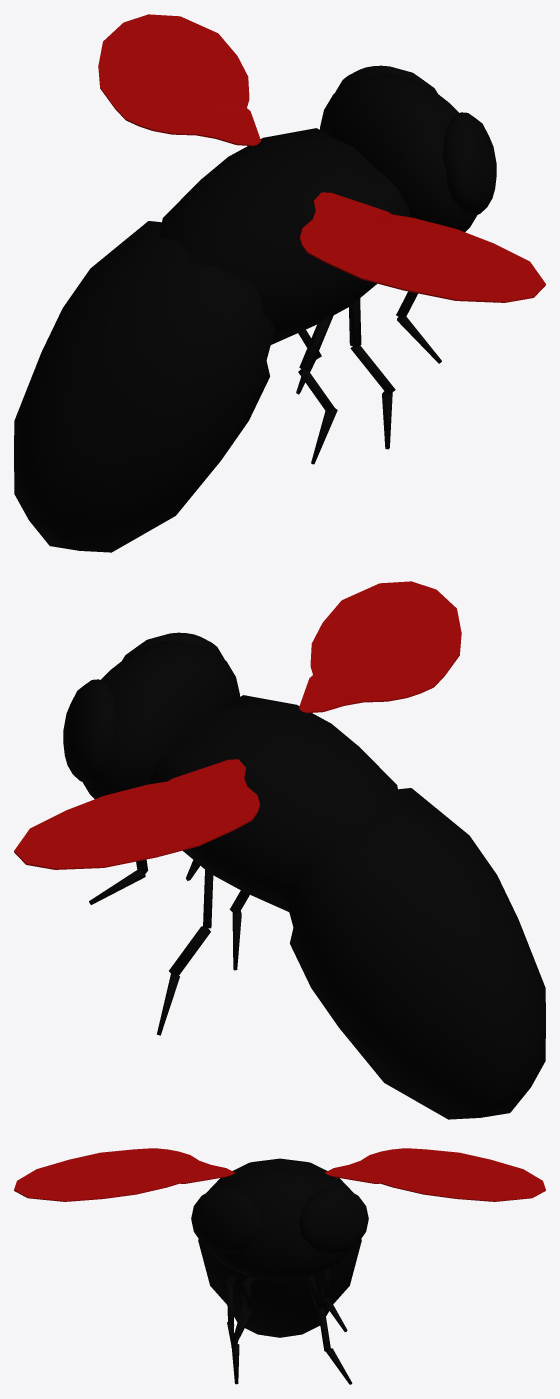
The model's file is FlyMat.fbx.
The picture shows the model from 3 angles, top to bottom: view 1: azimuth 30°, elevation 25°; view 2: azimuth 150°, elevation 25°; view 3: azimuth 270°, elevation 25°; orthographic projection. The views are drawn at different scales.
Visible parts, largest first — view 1: FlyMat; view 2: FlyMat; view 3: FlyMat.
Part boxes in pixels (bbox=[...]): FlyMat: bbox=[14, 14, 545, 552]; FlyMat: bbox=[14, 581, 545, 1119]; FlyMat: bbox=[14, 1148, 545, 1384].
Size of the model in its own units: 32.57 by 27.14 by 49.28.
